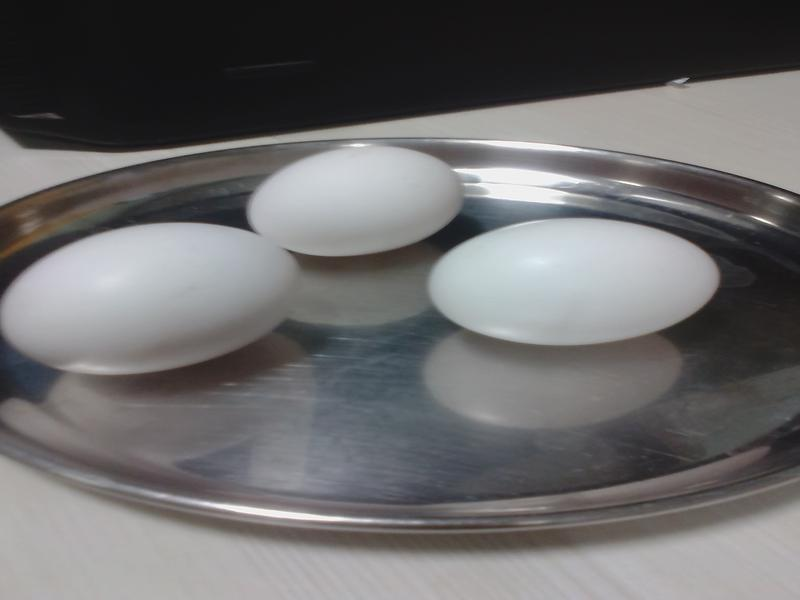egg: (430, 216, 719, 345)
